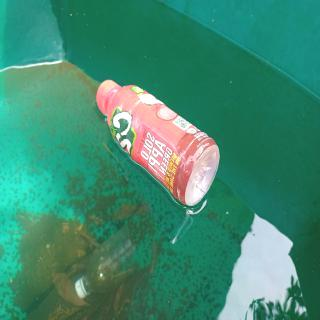bottle: (94, 75, 222, 212)
